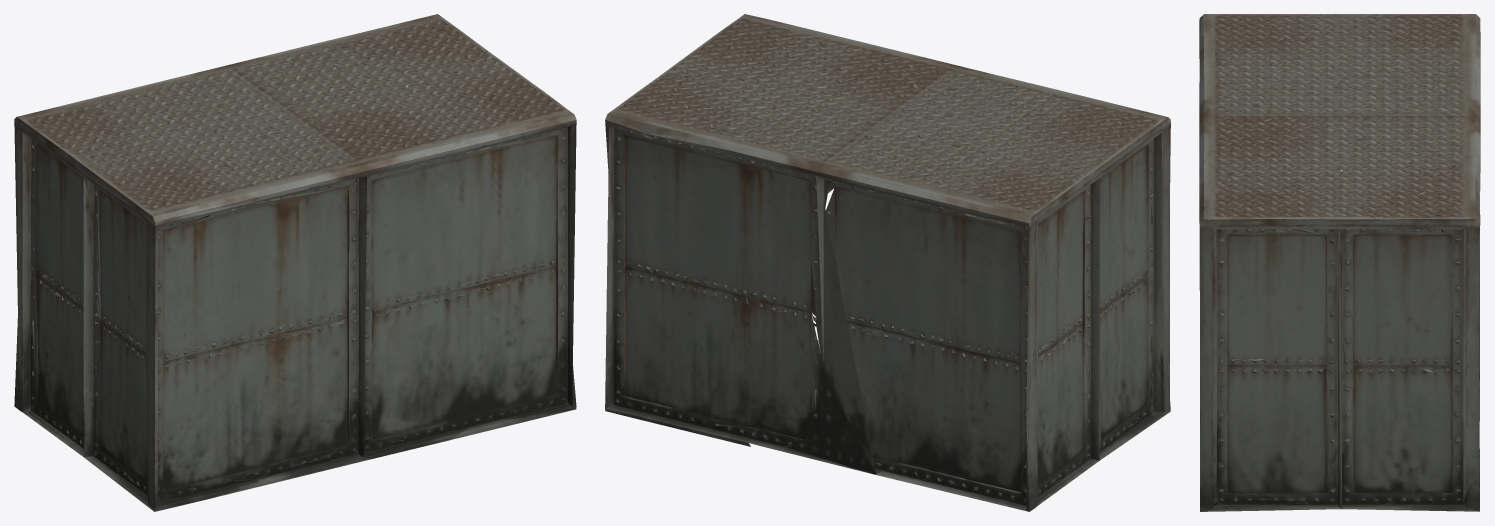
File: ropeway_loading_station.glb
3 views of the same model, side by side, from view 1: azimuth 30°, elevation 25°; view 2: azimuth 150°, elevation 25°; view 3: azimuth 270°, elevation 25° (orthographic).
Parts seen in each view (by area): view 1: main; view 2: main; view 3: main.
Part boxes in pixels (x1,y1,x2,y2): main: (14, 14, 576, 511); main: (605, 14, 1170, 511); main: (1199, 14, 1480, 511).
Bounding box in the file's own units: 2.74 × 1.83 × 1.59.
1 material, 1 textured.
